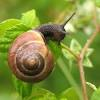snail: (7, 12, 78, 84)
